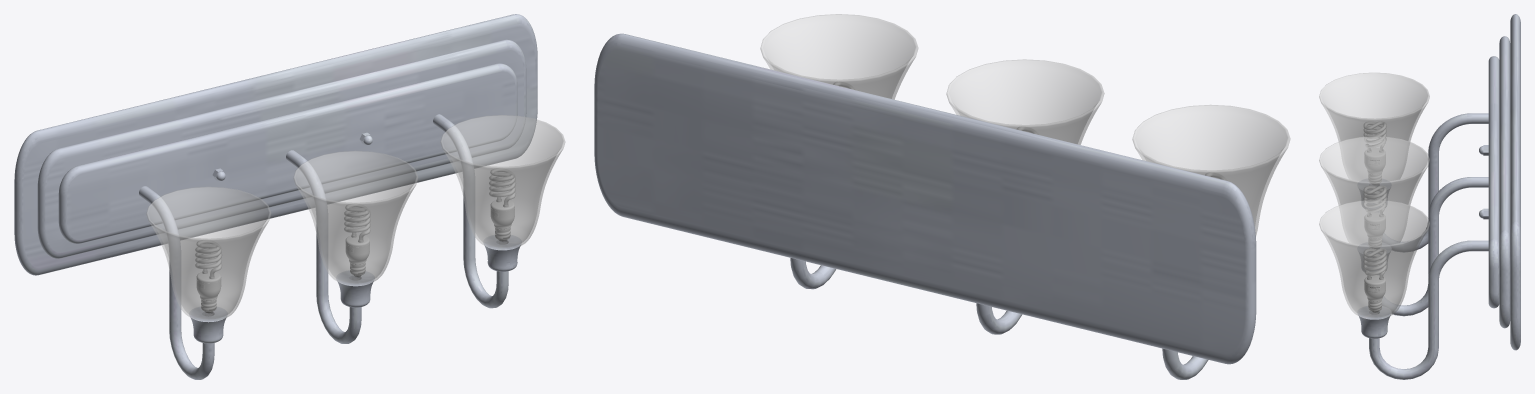
The model's file is light-1.glb.
3 views of the same model, side by side, from view 1: azimuth 30°, elevation 25°; view 2: azimuth 150°, elevation 25°; view 3: azimuth 270°, elevation 25° (orthographic). The views are drawn at different scales.
Parts seen in each view (by area): view 1: 3DGeom-9; view 2: 3DGeom-9; view 3: 3DGeom-9.
Boxes of the visible parts, <box> form: 3DGeom-9: <box>14,14,565,379</box>; 3DGeom-9: <box>594,14,1290,379</box>; 3DGeom-9: <box>1319,14,1520,379</box>.
Bounding box in the file's own units: 0.6306 × 0.2573 × 0.2383.
8 materials, 4 textured.
